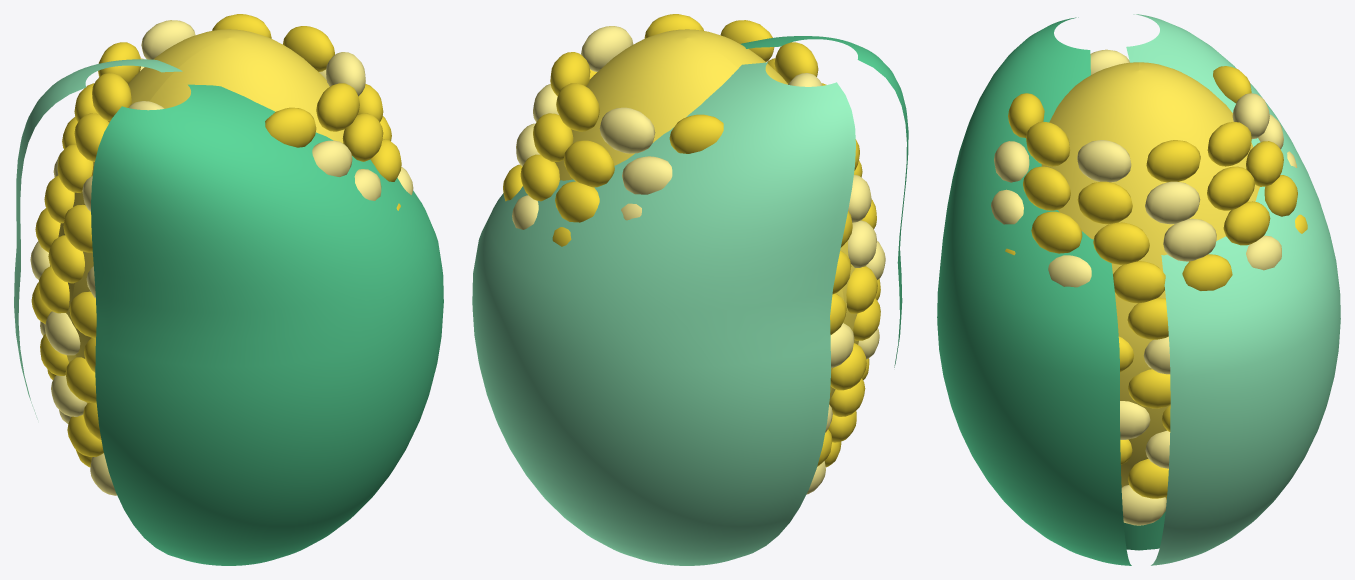
The model's file is sweet_corn.glb.
3 renders of one model, left to right at view 1: azimuth 30°, elevation 25°; view 2: azimuth 150°, elevation 25°; view 3: azimuth 270°, elevation 25°, orthographic. The views are drawn at different scales.
Parts seen in each view (by area): view 1: Chibi_SweetCorn, Corn_CobCore; view 2: Chibi_SweetCorn, Corn_CobCore; view 3: Chibi_SweetCorn, Corn_CobCore.
Part boxes in pixels (x1,y1,x2,y2): Chibi_SweetCorn: (14,14,443,565); Corn_CobCore: (50,29,344,403); Chibi_SweetCorn: (472,14,908,565); Corn_CobCore: (555,29,866,402); Chibi_SweetCorn: (937,14,1340,565); Corn_CobCore: (1041,62,1259,499).
Size of the model in its own units: 1.69 by 2.17 by 1.7.
